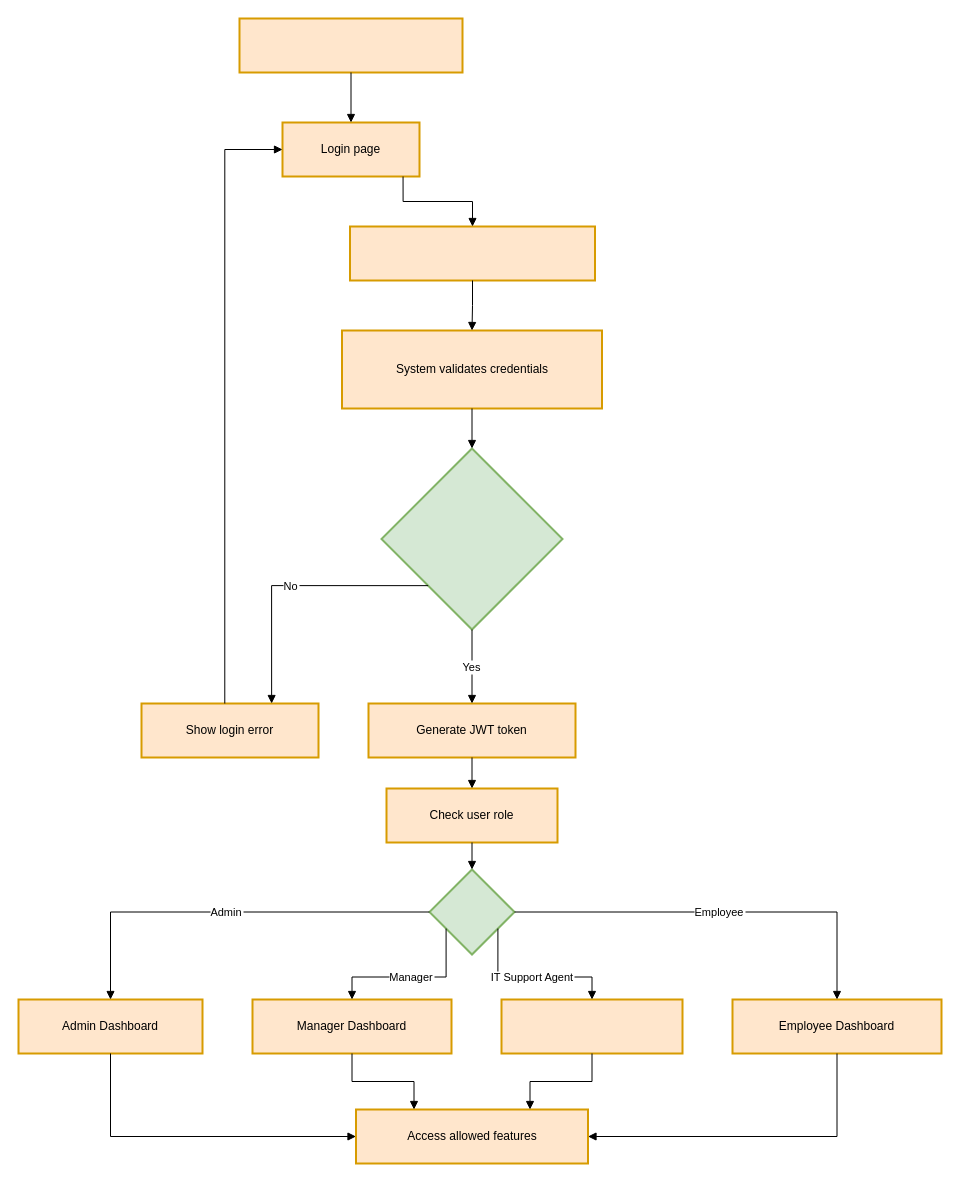
Image size: 959x1181. Some labels were removed from this diagram. Here are the shapes that lost their labels. From the top down, the centre of each, then its label:
At [350,45]: "User opens application".
At [472,253]: "Enter email and password".
At [471,538]: "Credentials valid?".
At [471,911]: "Role".
At [591,1026]: "Agent Dashboard".
